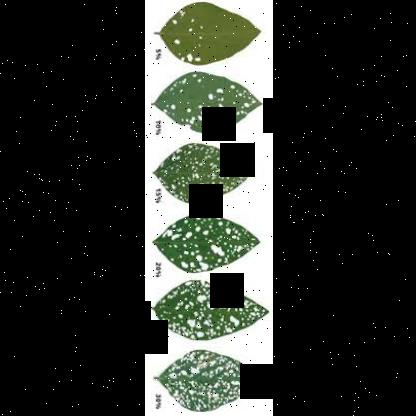agujero: (210, 244, 223, 256), (216, 103, 224, 122), (204, 93, 216, 103), (195, 110, 203, 124), (182, 53, 192, 63), (176, 8, 184, 18), (195, 252, 203, 262), (197, 262, 207, 270), (170, 233, 178, 242), (171, 37, 179, 45), (224, 228, 232, 236), (213, 88, 223, 94), (180, 77, 186, 87), (216, 303, 226, 309), (227, 84, 235, 90), (236, 111, 247, 115), (242, 102, 249, 107), (192, 57, 200, 61), (188, 74, 196, 78), (183, 110, 191, 114), (186, 27, 192, 32), (169, 103, 175, 108), (171, 20, 177, 24), (251, 98, 255, 104), (184, 232, 188, 238), (208, 127, 212, 132), (214, 99, 222, 101), (232, 101, 235, 103)
